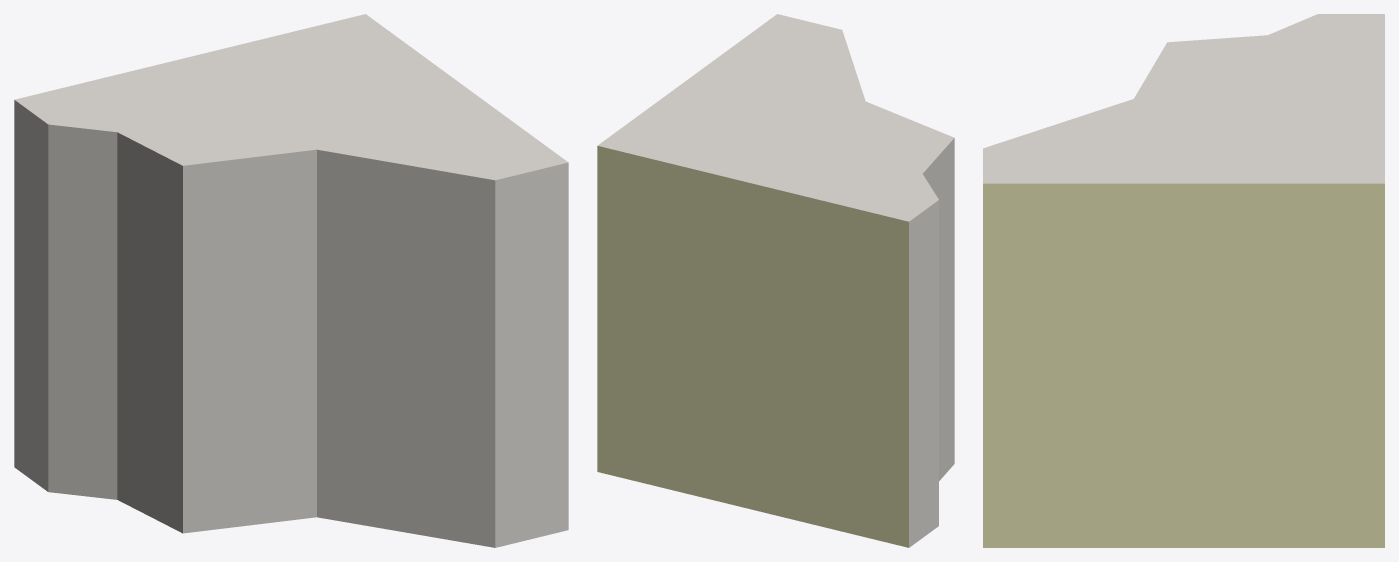
The model's file is Cracked_Curve_Outer_2x2_1_Mid.glb.
3 renders of one model, left to right at view 1: azimuth 30°, elevation 25°; view 2: azimuth 150°, elevation 25°; view 3: azimuth 270°, elevation 25°, orthographic. The views are drawn at different scales.
Visible parts, largest first — view 1: Cracked_Curve_Outer_2x2_1_Mid; view 2: Cracked_Curve_Outer_2x2_1_Mid; view 3: Cracked_Curve_Outer_2x2_1_Mid.
Boxes of the visible parts, x1=… form: Cracked_Curve_Outer_2x2_1_Mid: x1=14, y1=14, x2=568, y2=547; Cracked_Curve_Outer_2x2_1_Mid: x1=597, y1=14, x2=954, y2=547; Cracked_Curve_Outer_2x2_1_Mid: x1=983, y1=14, x2=1384, y2=547.
Bounding box in the file's own units: 100 × 100 × 100.
